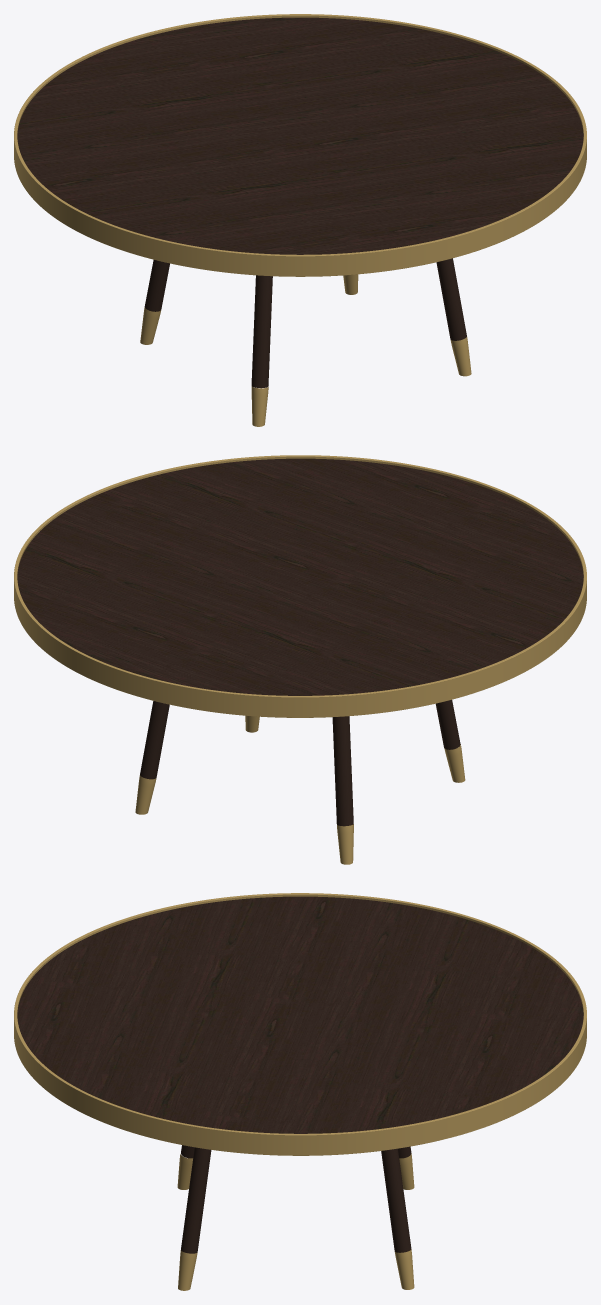
The model's file is concord_coffee_table_large.glb.
3 renders of one model, top to bottom at view 1: azimuth 30°, elevation 25°; view 2: azimuth 150°, elevation 25°; view 3: azimuth 270°, elevation 25°, orthographic.
Visible parts, largest first — view 1: LOW TOP002, Group002; view 2: LOW TOP002, Group002; view 3: LOW TOP002, Group002.
Part boxes in pixels (x1,y1,x2,y2): LOW TOP002: (17, 17, 583, 254); Group002: (14, 14, 586, 426); LOW TOP002: (17, 458, 583, 695); Group002: (14, 455, 586, 864); LOW TOP002: (17, 896, 583, 1133); Group002: (14, 893, 586, 1290).
Bounding box in the file's own units: 0.8094 × 0.3463 × 0.8094.
Materials: 2 (1 with a texture image).
